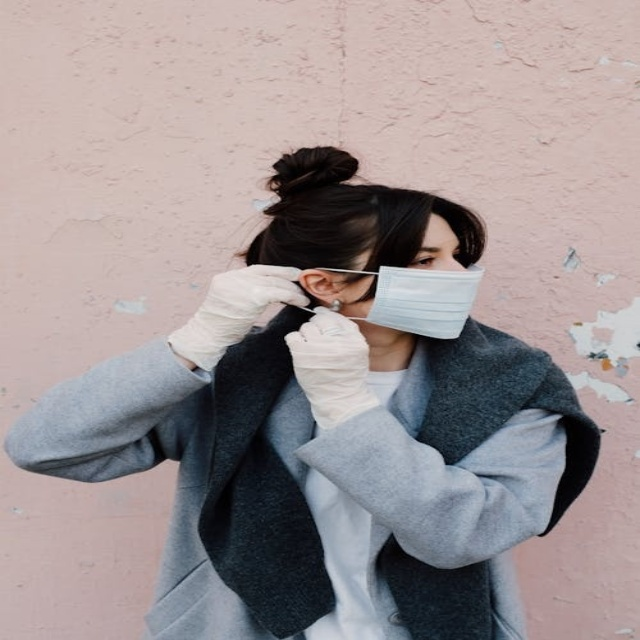Guantes: (168, 263, 312, 371), (285, 306, 380, 428)
Mascara: (347, 262, 485, 339)
Sin_gafas: (415, 235, 463, 270)
